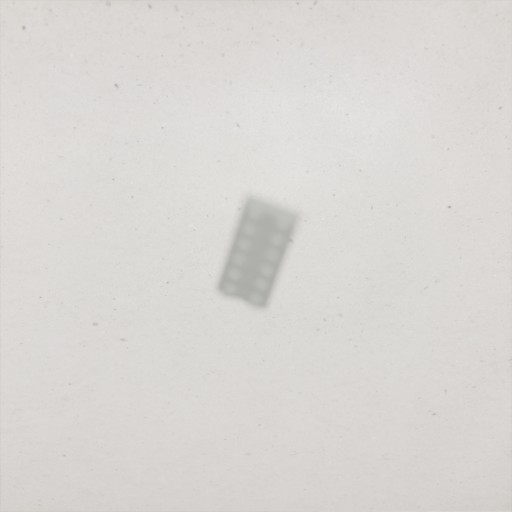lego: (214, 191, 303, 312)
